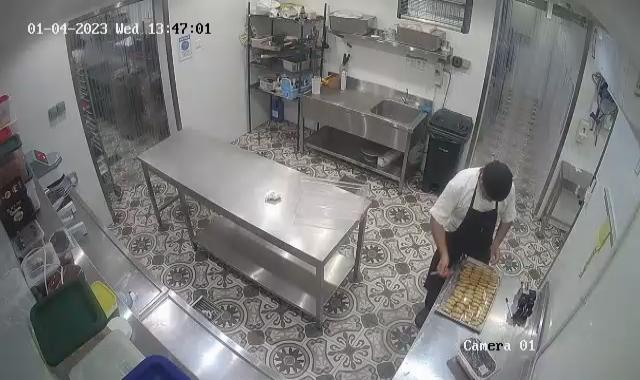no_hairnet: (479, 160, 517, 202)
